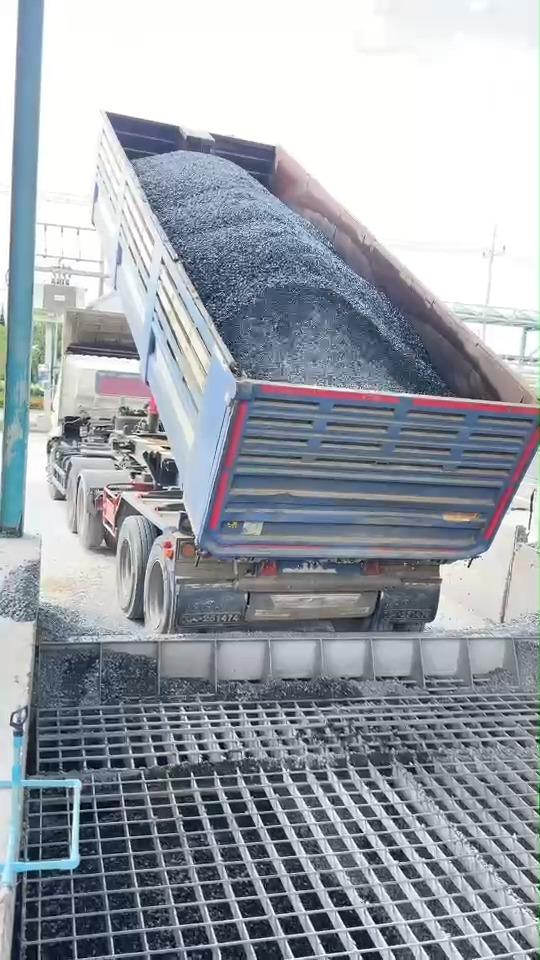gravel: (135, 151, 447, 393), (37, 602, 156, 704), (161, 677, 418, 702), (455, 612, 538, 642), (0, 560, 38, 621), (516, 636, 537, 692)
